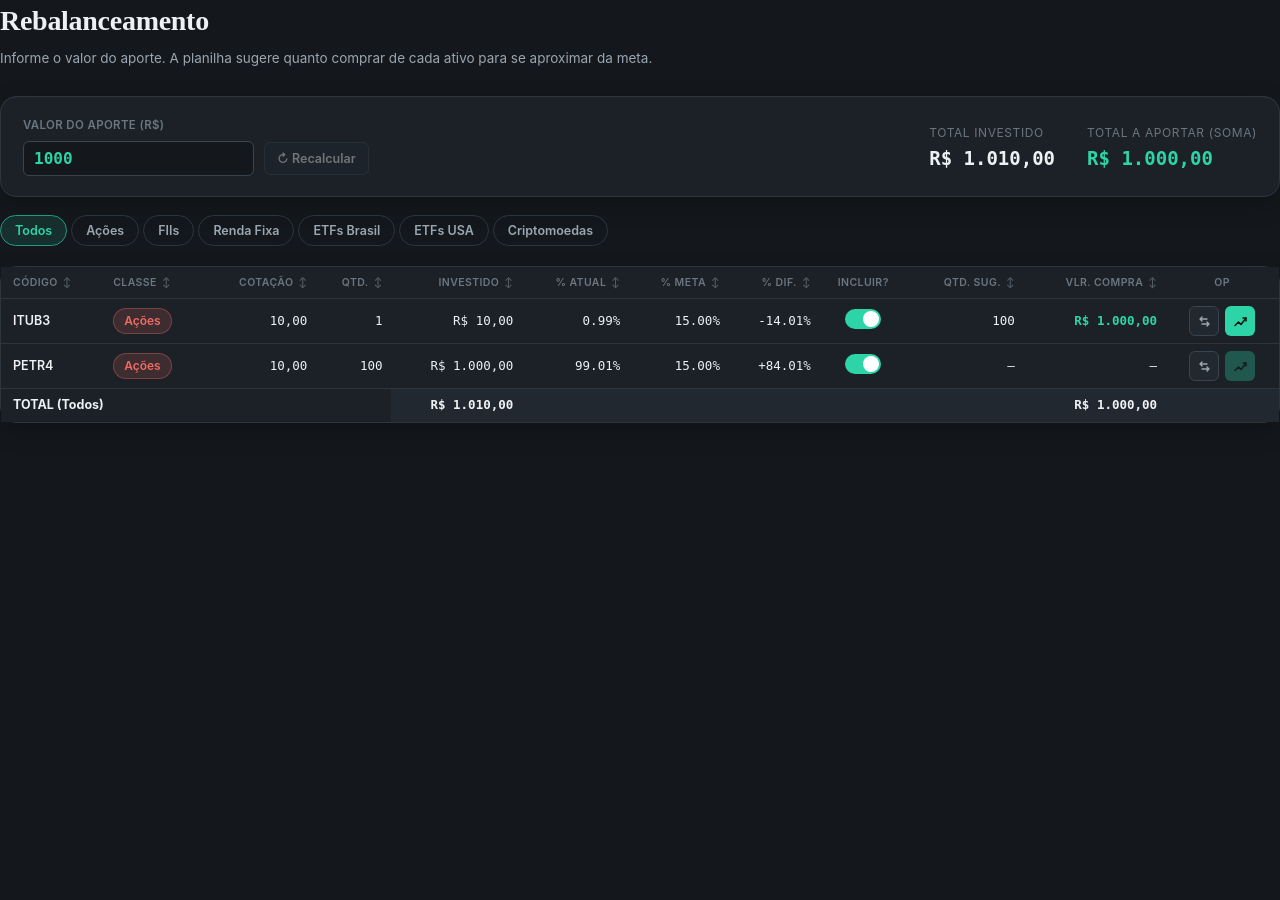
Scenario: Rebalanceamento — modal manual de compra/venda › venda manual dentro do estoque disponível reduz a posição corretamente
Click the button titled "Lançar operação manualmente" in the row of "PETR4" at (1204, 366), box x1=1189 y1=351 x2=1219 y2=381
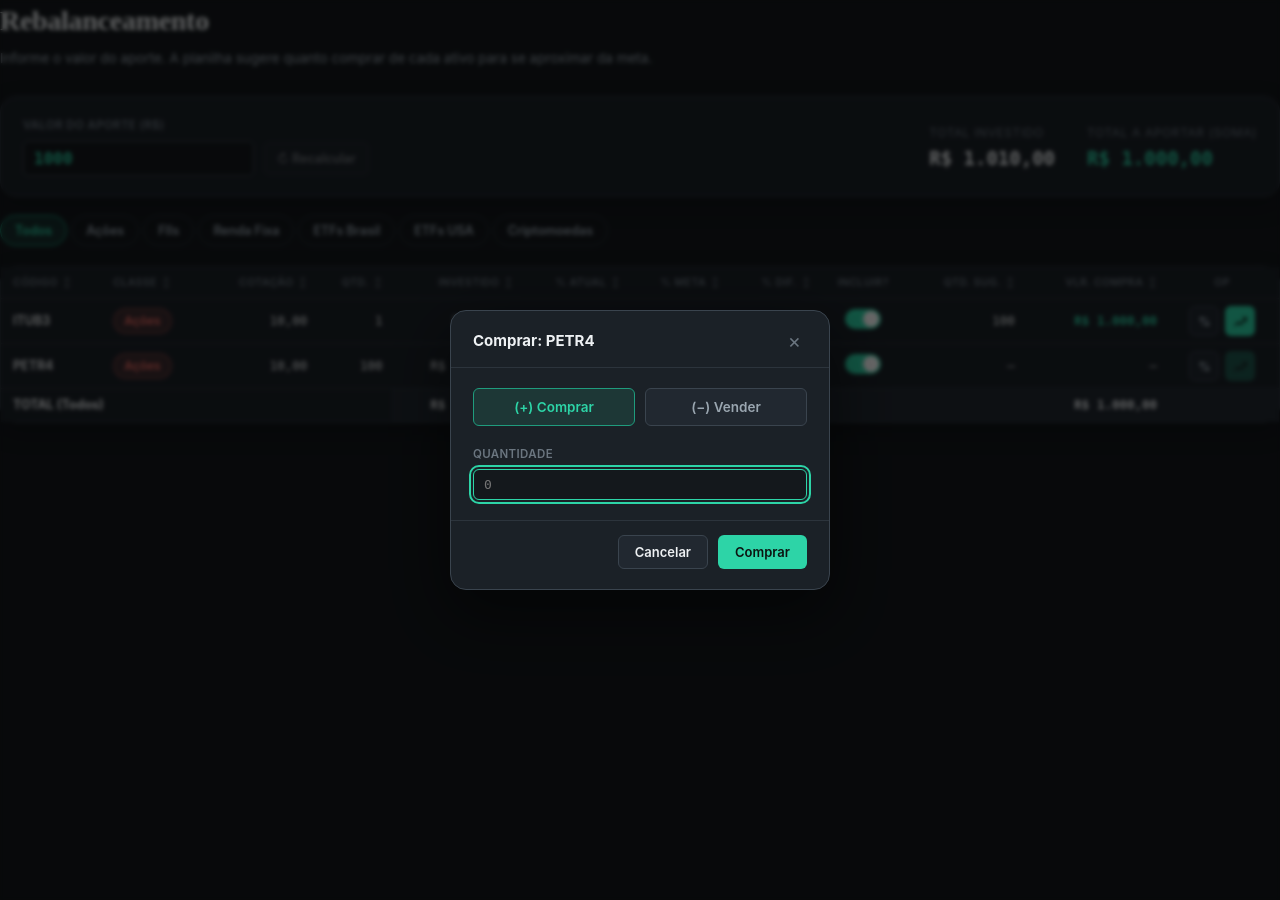
Click the button with class "modal-tipo-btn--venda" at (726, 407), box x1=645 y1=388 x2=807 y2=426
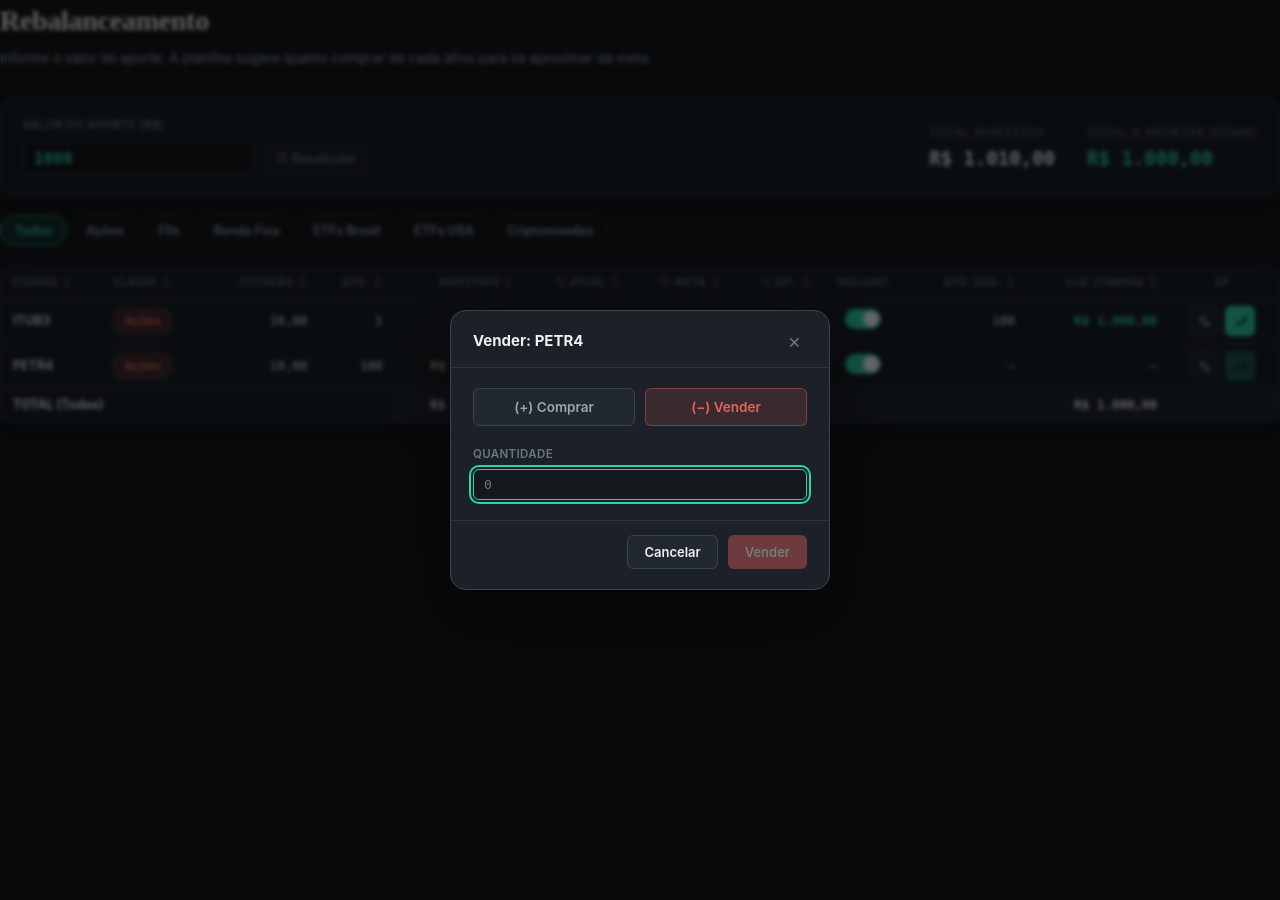
Result: the text "Vender: PETR4" is shown at x1=473 y1=330 x2=584 y2=352
Type "20" into the number field with placeholder "0" at (640, 485), box x1=473 y1=469 x2=807 y2=500
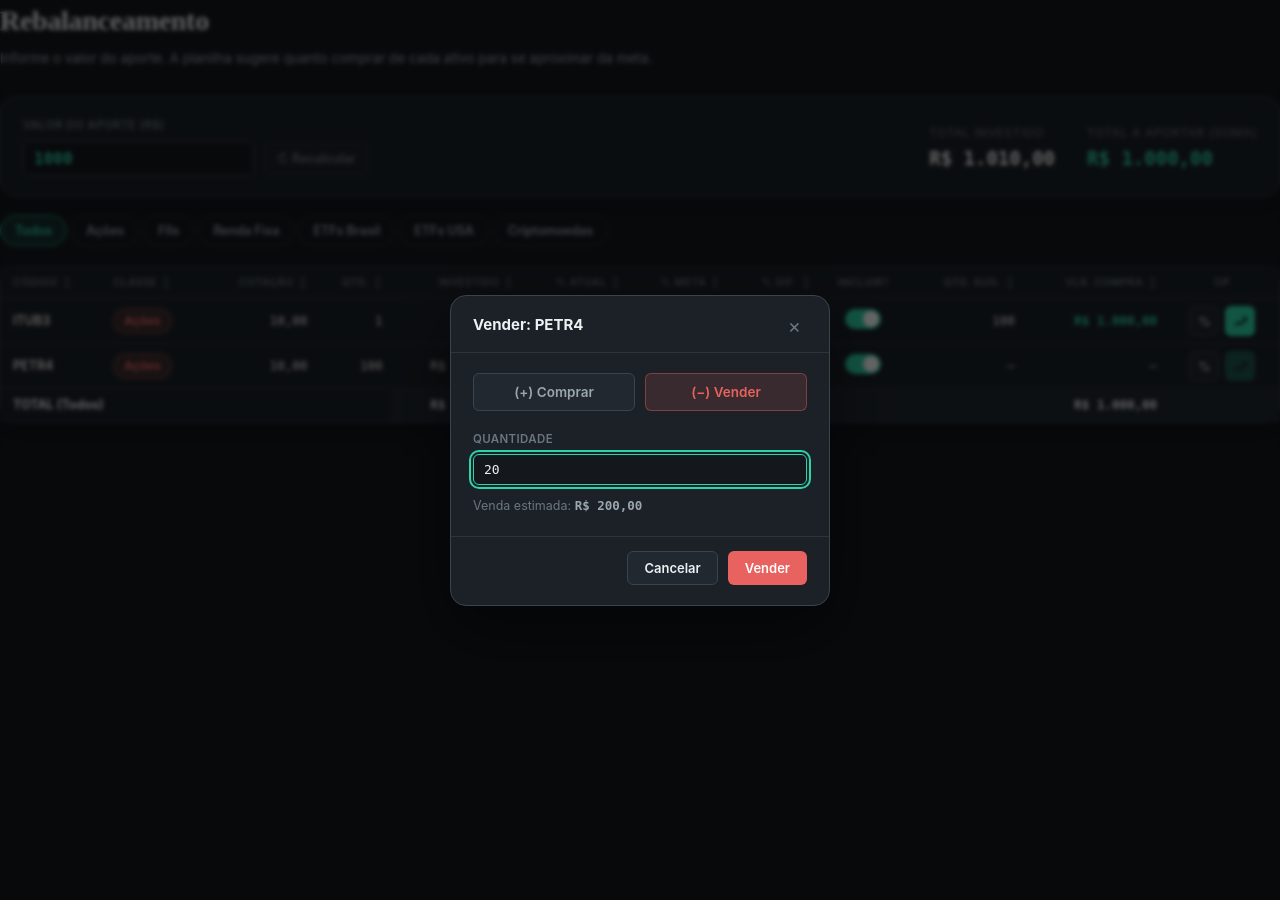
Click the button "Vender" at (767, 568), box x1=728 y1=550 x2=807 y2=584
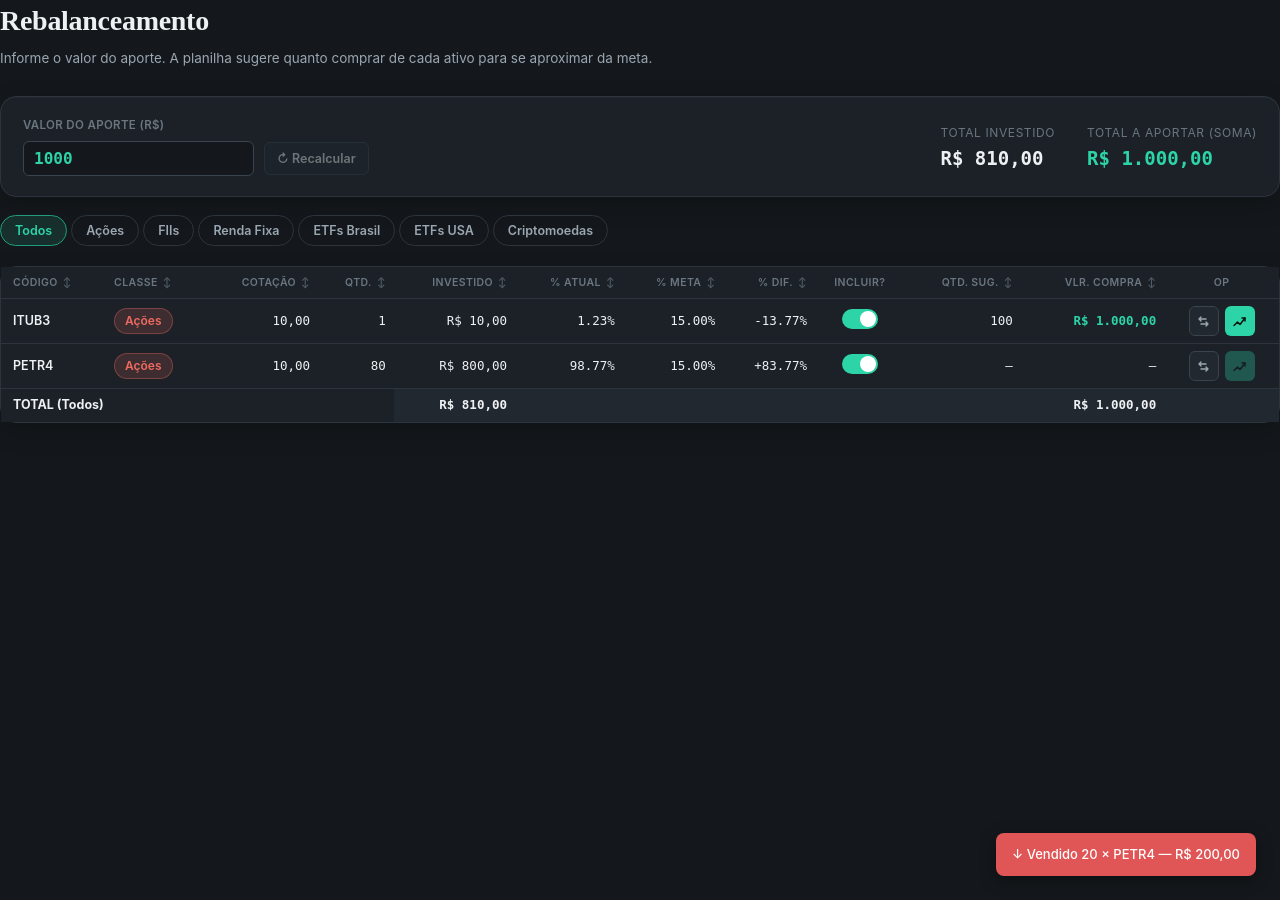
Result: the text "80" is shown at x1=318 y1=344 x2=394 y2=389
Result: the text "↓ Vendido 20 × PETR4 — R$ 200,00" is shown at x1=996 y1=832 x2=1256 y2=876
